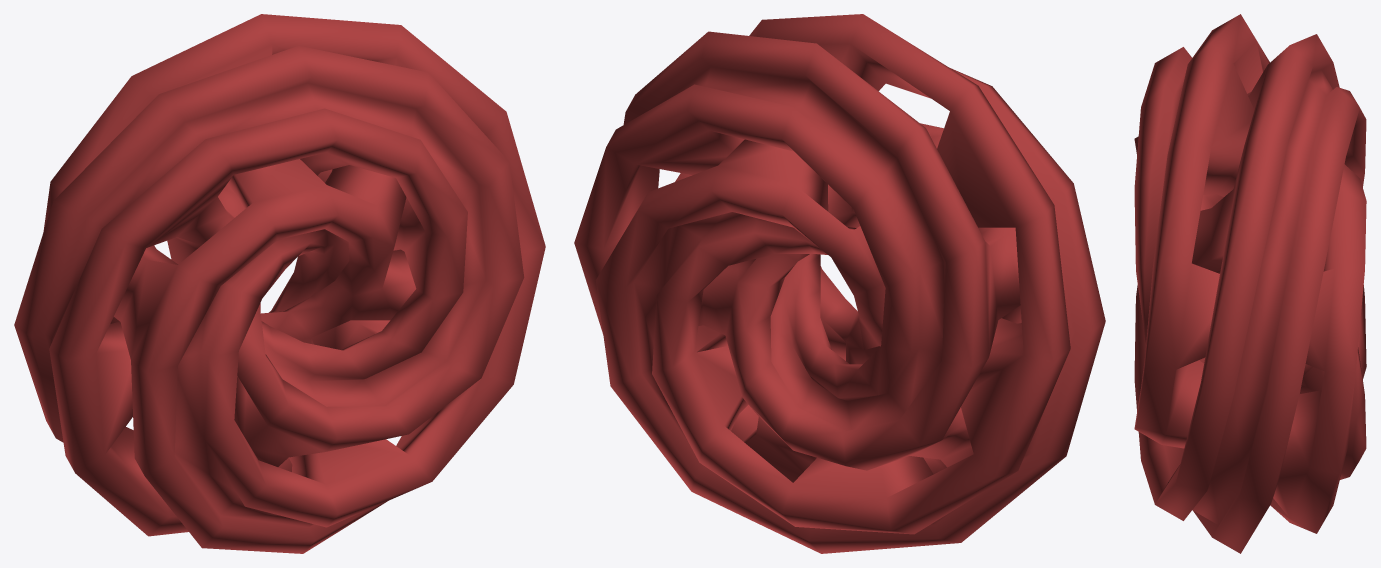
3 renders of one model, left to right at view 1: azimuth 30°, elevation 25°; view 2: azimuth 150°, elevation 25°; view 3: azimuth 270°, elevation 25°, orthographic. The views are drawn at different scales.
Visible parts, largest first — view 1: Moebius_01; view 2: Moebius_01; view 3: Moebius_01.
Boxes of the visible parts, bbox=[...] form: Moebius_01: bbox=[14, 14, 545, 553]; Moebius_01: bbox=[574, 14, 1105, 553]; Moebius_01: bbox=[1134, 14, 1366, 553].
Bounding box in the file's own units: 258 × 262 × 115.
1 material, 1 textured.
